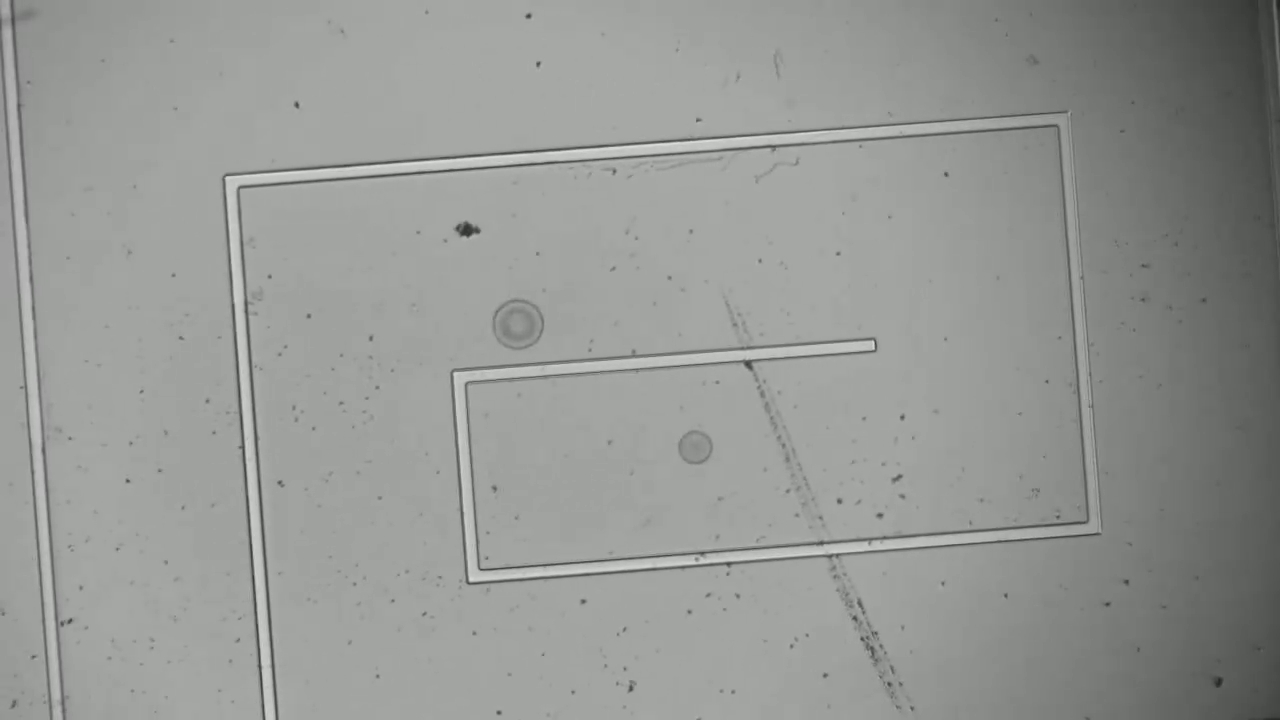scratch: (728, 300, 911, 720)
